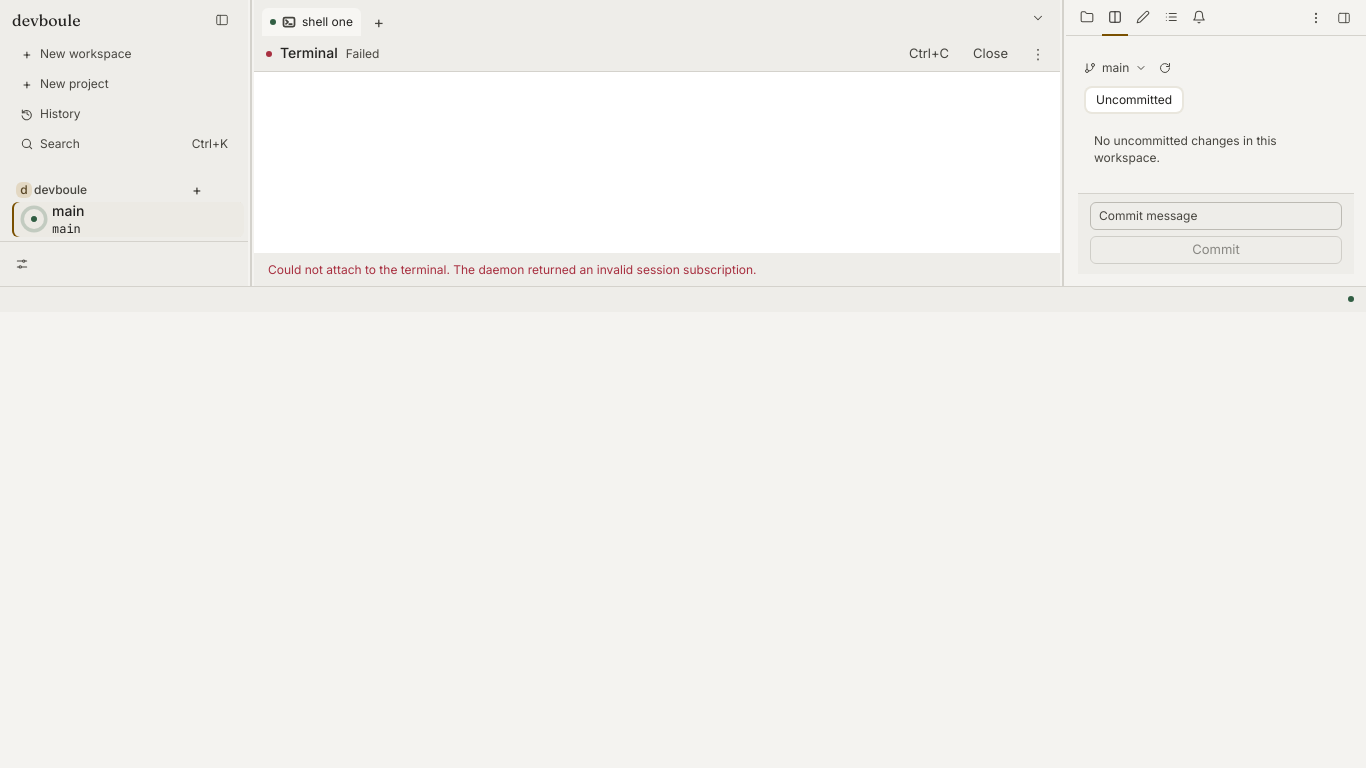
Scenario: Workspace sessions › a refused worktree create shows its sentence in the sheet, keeps the sheet open, and starts nothing
The width and height of the screenshot is (1366, 768).
Click the button with aria-label "New workspace" at x=124, y=54, box [12,40,236,68]
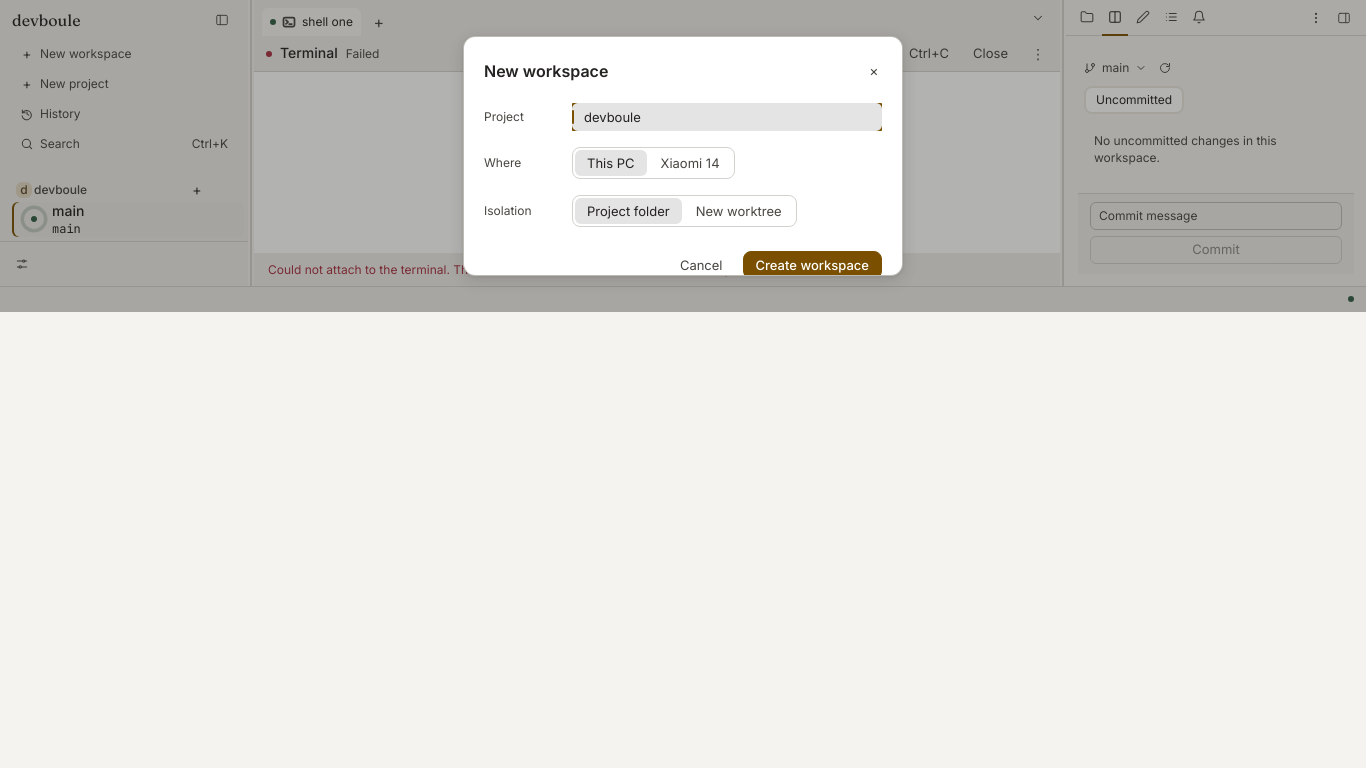
Submit the form, box [484,101,882,279]
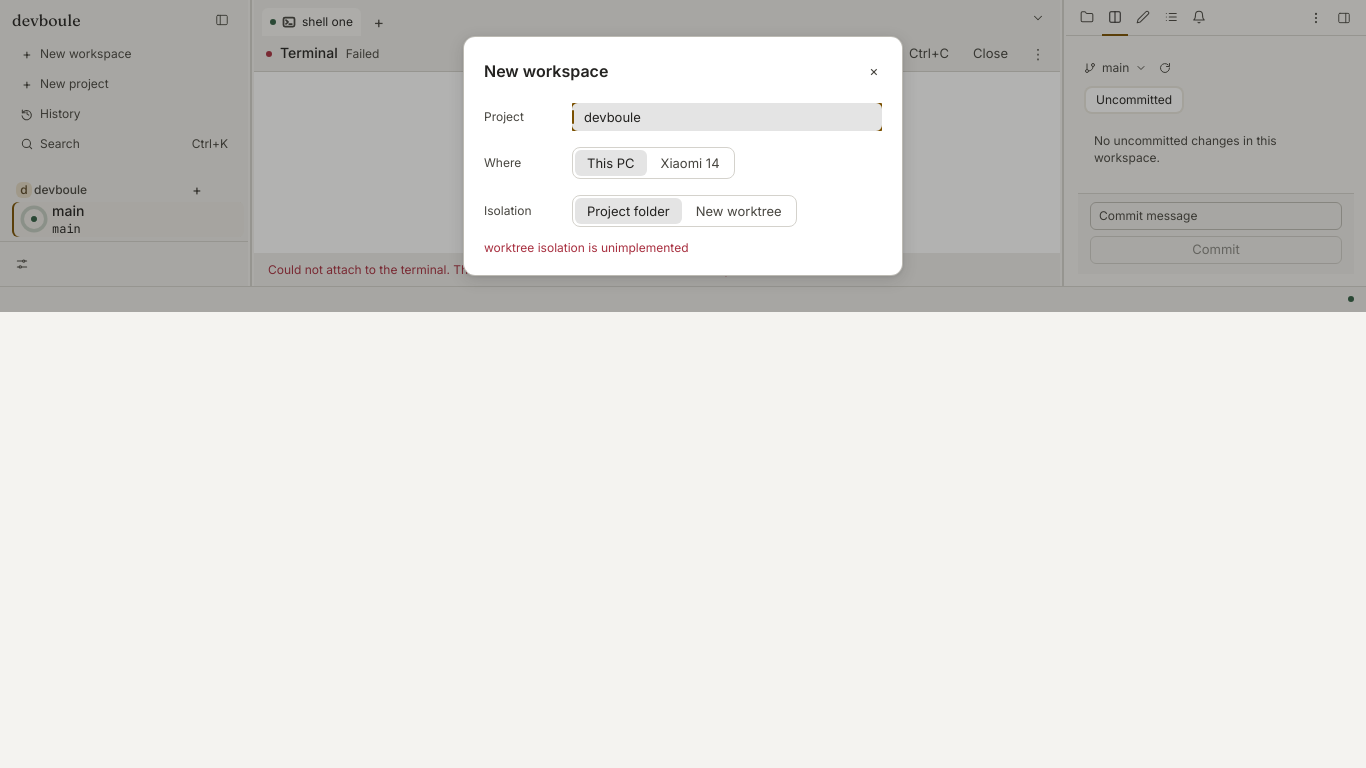
Now the dialog with class "new-workspace-sheet" is shown, box [463,36,903,276]
Now the message "worktree isolation is unimplemented" is shown, box [484,240,688,255]
